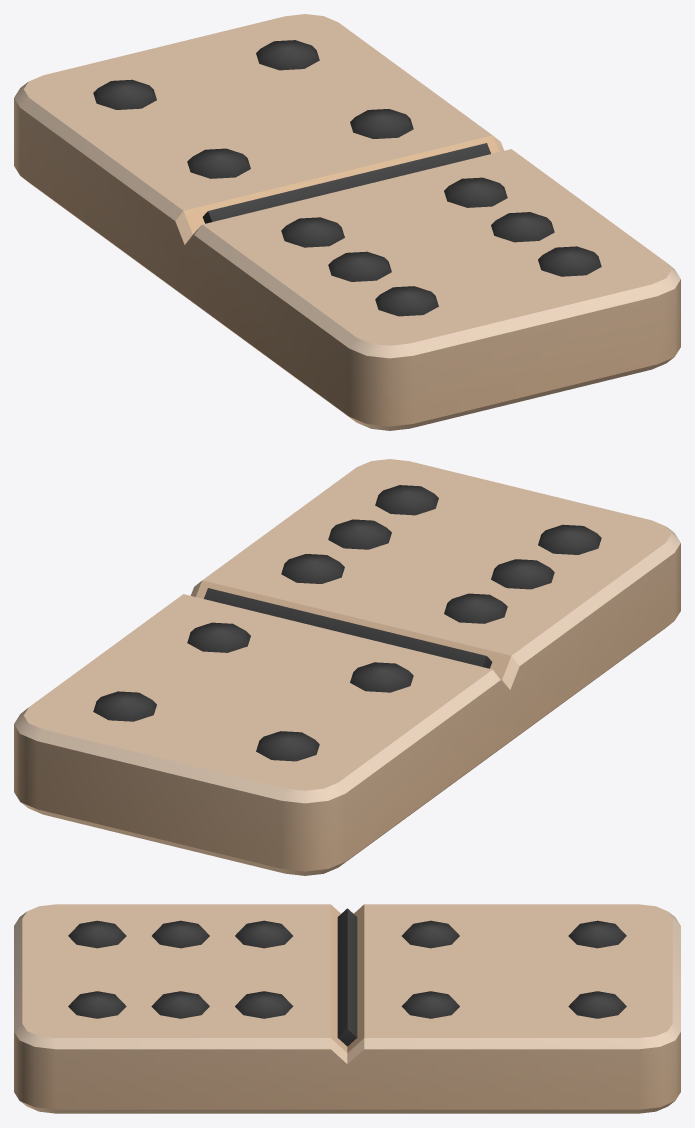
File: domino_tile_4-6.gltf
3 views of the same model, one above another, from view 1: azimuth 30°, elevation 25°; view 2: azimuth 150°, elevation 25°; view 3: azimuth 270°, elevation 25° (orthographic). The views are drawn at different scales.
Parts seen in each view (by area): view 1: domino_tile_4-6; view 2: domino_tile_4-6; view 3: domino_tile_4-6.
Part boxes in pixels (box(x1,y1,x2,y2)): domino_tile_4-6: box(14, 14, 680, 430); domino_tile_4-6: box(14, 459, 680, 875); domino_tile_4-6: box(14, 904, 680, 1113).
Bounding box in the file's own units: 1 × 0.2767 × 2.
1 material, 1 textured.
